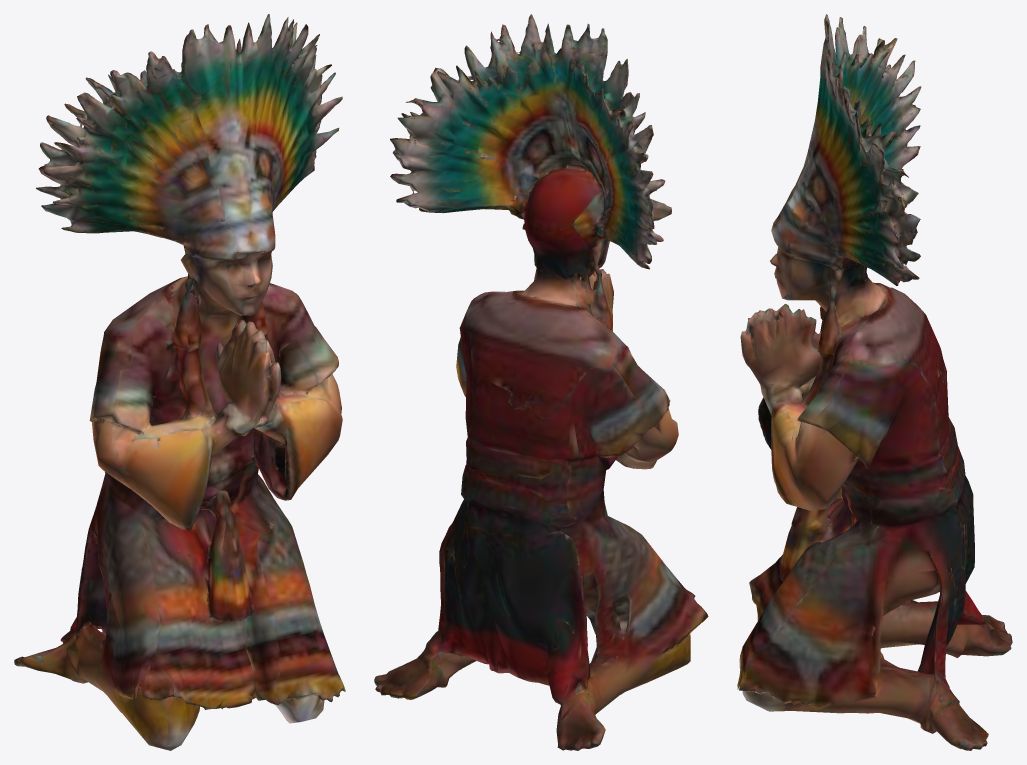
Rendered from sacerdote.glb.
3 renders of one model, left to right at view 1: azimuth 30°, elevation 25°; view 2: azimuth 150°, elevation 25°; view 3: azimuth 270°, elevation 25°, orthographic. The views are drawn at different scales.
Bounding box in the file's own units: 0.9028 × 2 × 0.7524.
Materials: 1 (1 with a texture image).
